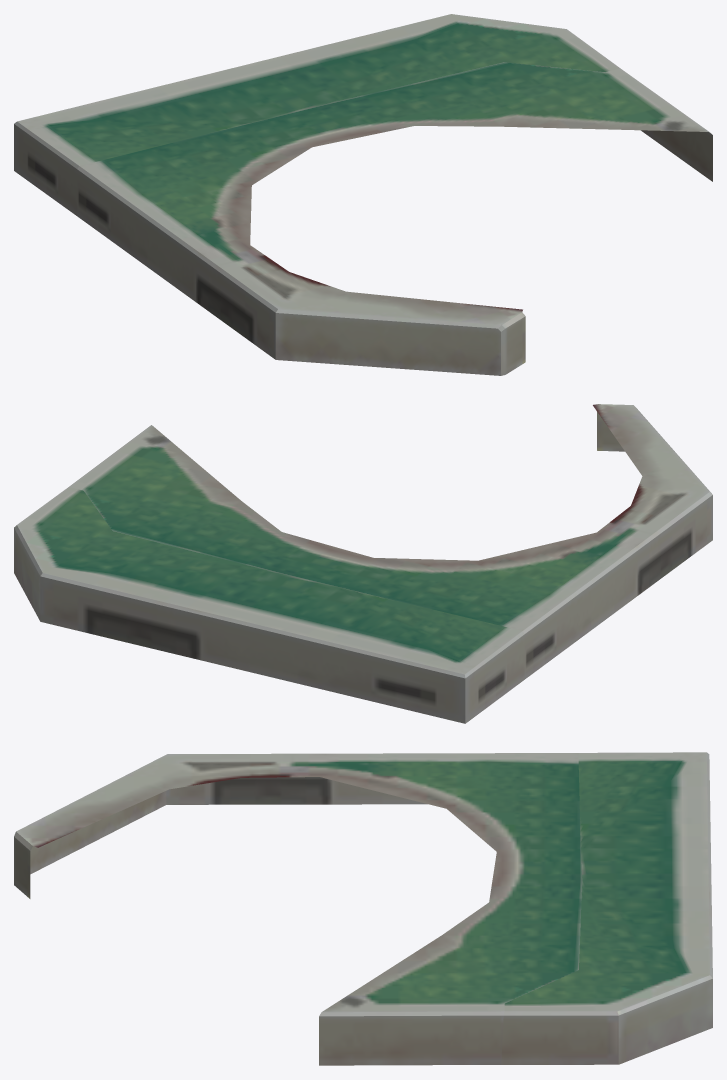
File: pref_sm_city_parterre07_snow_lv3.fbx
3 renders of one model, top to bottom at view 1: azimuth 30°, elevation 25°; view 2: azimuth 150°, elevation 25°; view 3: azimuth 270°, elevation 25°, orthographic. The views are drawn at different scales.
Parts seen in each view (by area): view 1: pref_sm_city_parterre07_snow_lv3; view 2: pref_sm_city_parterre07_snow_lv3; view 3: pref_sm_city_parterre07_snow_lv3.
Part boxes in pixels (x1,y1,x2,y2): pref_sm_city_parterre07_snow_lv3: [14, 14, 712, 375]; pref_sm_city_parterre07_snow_lv3: [14, 404, 712, 723]; pref_sm_city_parterre07_snow_lv3: [14, 752, 712, 1065].
Size of the model in its own units: 11.74 by 1.09 by 13.23.
